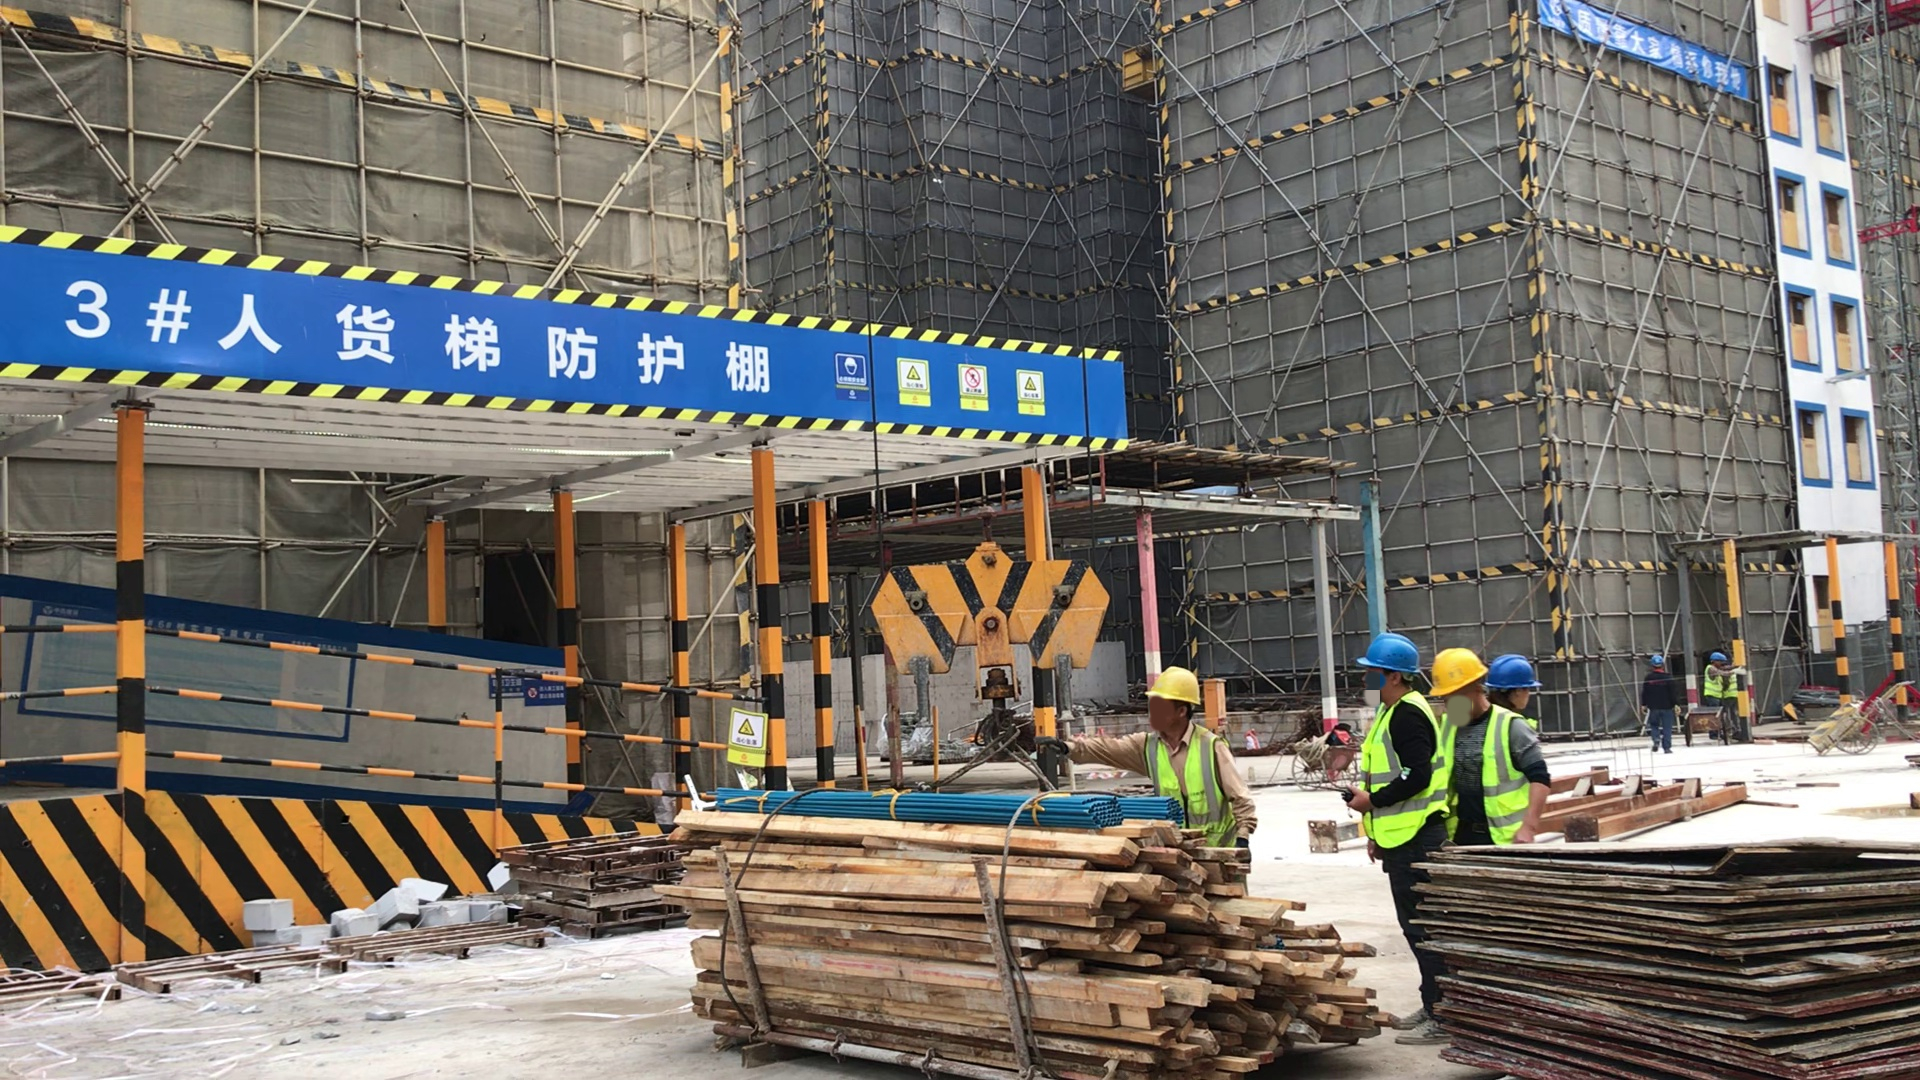board: (1411, 830, 1904, 1080)
handcart: (1806, 685, 1920, 761)
helmet: (1360, 632, 1417, 672), (1482, 652, 1540, 692), (1429, 650, 1485, 692), (1147, 665, 1200, 705), (1647, 652, 1664, 668), (1709, 650, 1726, 664)
hook: (863, 537, 1103, 690)
person: (1347, 631, 1471, 1048), (1040, 664, 1263, 850), (1430, 647, 1549, 867), (1486, 636, 1555, 718), (1640, 652, 1681, 756), (1698, 652, 1728, 711)
slogan: (1543, 1, 1765, 95)
vest: (1441, 709, 1531, 848), (1357, 693, 1443, 836), (1144, 731, 1236, 835), (1704, 664, 1725, 698)
wood: (674, 811, 1372, 1080)
